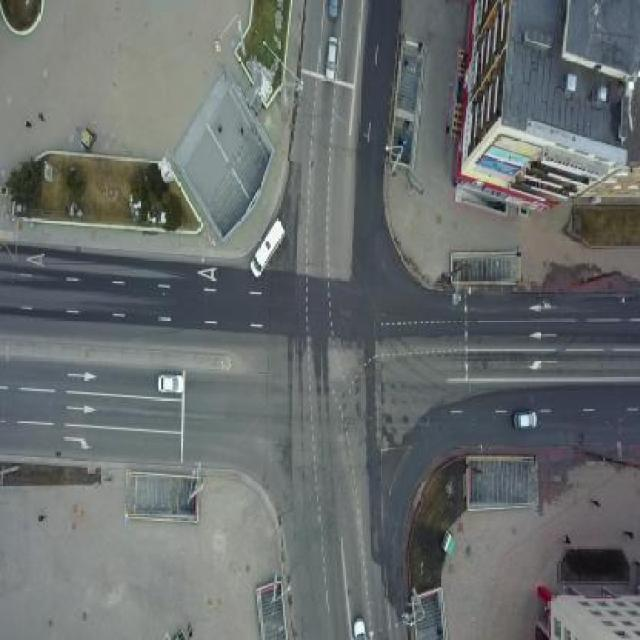bus: (249, 217, 288, 280)
car: (156, 368, 184, 398), (323, 34, 340, 80), (511, 408, 540, 432), (349, 617, 374, 640), (324, 0, 343, 20)
